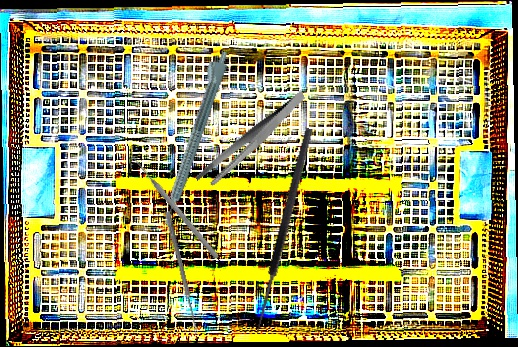Dressing Forceps: (181, 90, 322, 191)
Handpiece: (152, 47, 232, 227)
Hook Surgical: (252, 127, 324, 338)
Pusher: (129, 153, 221, 261)
Surgical Spoon: (163, 211, 201, 335)
